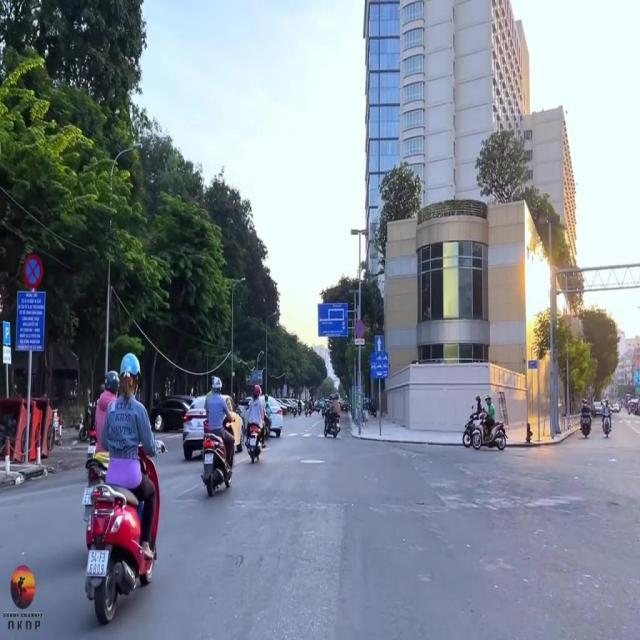130-cam-dung-va-do-xe: (24, 253, 44, 290)
407a-duong-mot-chieu: (374, 336, 384, 351)
